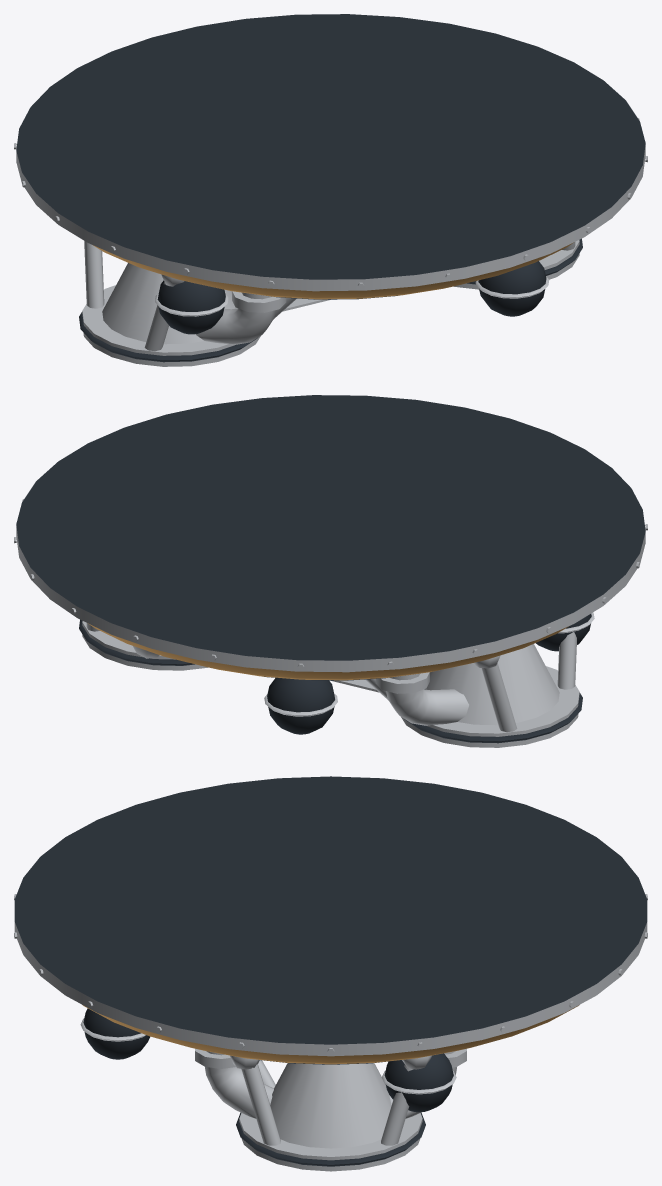
Rendered from mount_s2_2_d37.glb.
The picture shows the model from 3 angles, top to bottom: view 1: azimuth 30°, elevation 25°; view 2: azimuth 150°, elevation 25°; view 3: azimuth 270°, elevation 25°; orthographic projection.
Parts seen in each view (by area): view 1: mount_s2_2_d37_mesh; view 2: mount_s2_2_d37_mesh; view 3: mount_s2_2_d37_mesh.
Part boxes in pixels (left/top/right/bottom): mount_s2_2_d37_mesh: left=14, top=14, right=647, bottom=366; mount_s2_2_d37_mesh: left=14, top=395, right=647, bottom=747; mount_s2_2_d37_mesh: left=14, top=776, right=647, bottom=1171.
Bounding box in the file's own units: 3.21 × 0.8 × 3.18.
